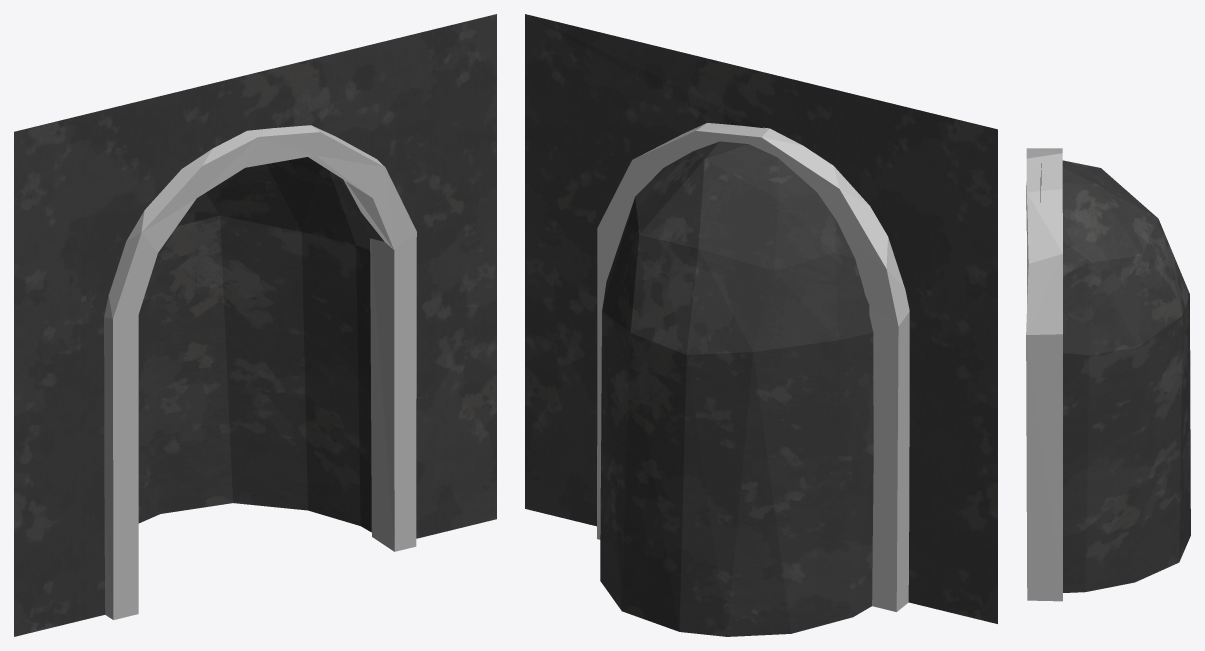
Rendered from AlcoveArchway_02_Lod3.fbx.
3 renders of one model, left to right at view 1: azimuth 30°, elevation 25°; view 2: azimuth 150°, elevation 25°; view 3: azimuth 270°, elevation 25°, orthographic. The views are drawn at different scales.
Parts seen in each view (by area): view 1: S_Sunforged_AlcoveArchway_02_Lod3.mo; view 2: S_Sunforged_AlcoveArchway_02_Lod3.mo; view 3: S_Sunforged_AlcoveArchway_02_Lod3.mo.
Part boxes in pixels (box(x1,y1,x2,y2)): S_Sunforged_AlcoveArchway_02_Lod3.mo: box(14, 14, 496, 636); S_Sunforged_AlcoveArchway_02_Lod3.mo: box(525, 14, 997, 636); S_Sunforged_AlcoveArchway_02_Lod3.mo: box(1026, 148, 1190, 601).
Size of the model in its own units: 1080 by 1080 by 380.
